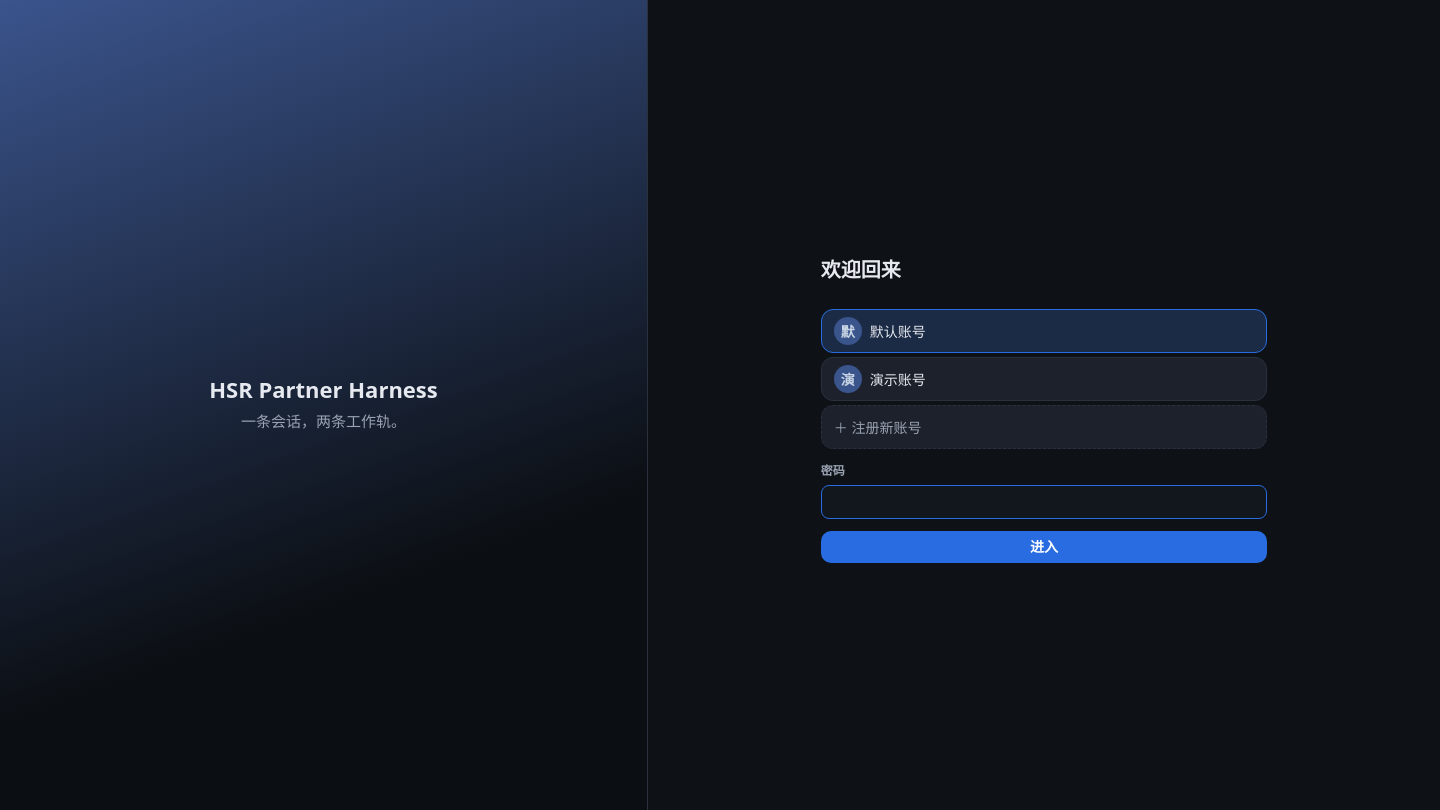
Scenario: AppShell 账号门、首次引导与设置中心 › 账号门：后端拒绝登录时就地显示错误，切到注册表单后清掉
Click the radio button labelled "演 演示账号" at (898, 380), box [821,357,1267,401]
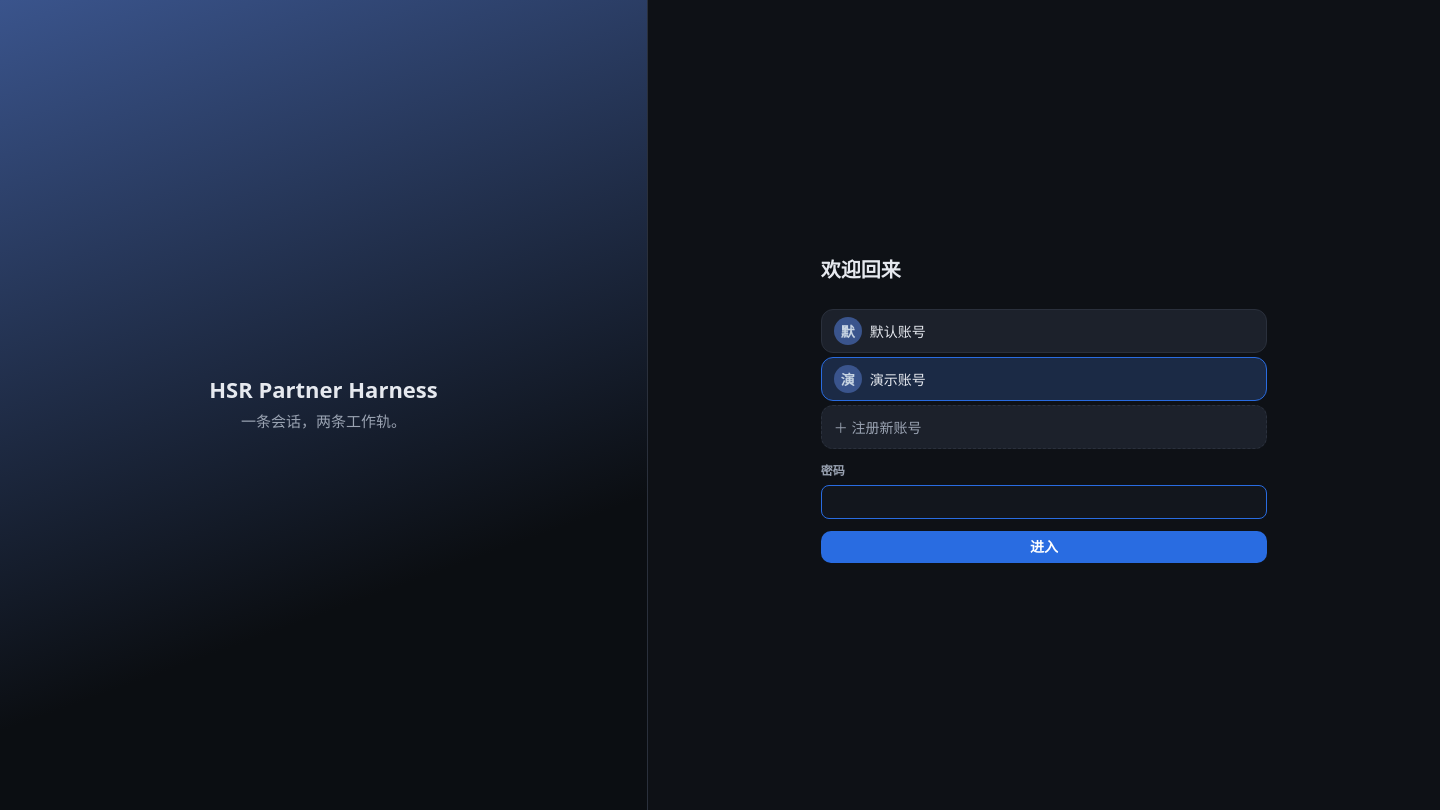
Type "wrong-pass" into the password field labelled "密码" at (1044, 502), box [821,485,1267,519]
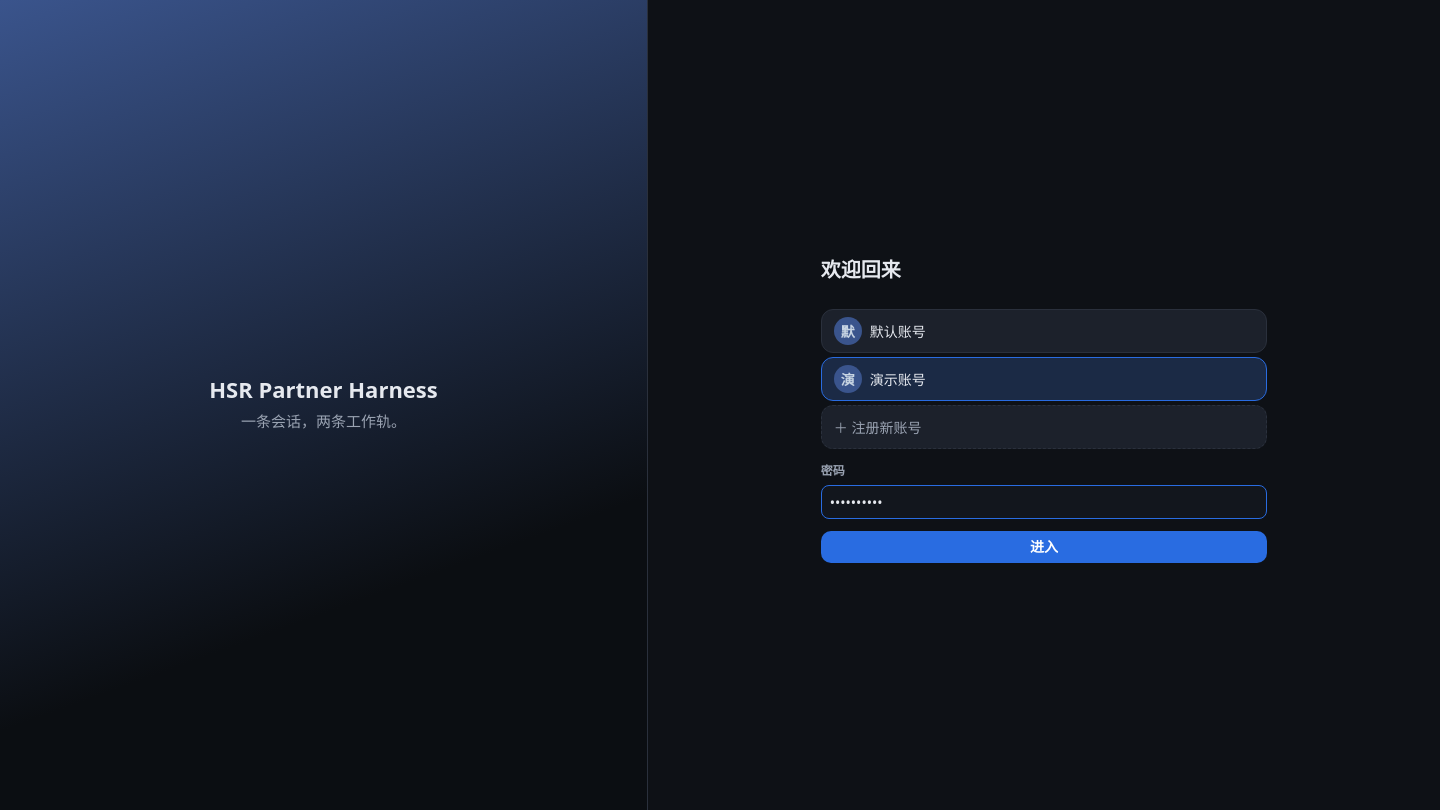
Click the button "进入" at (1044, 547), box [821,531,1267,563]
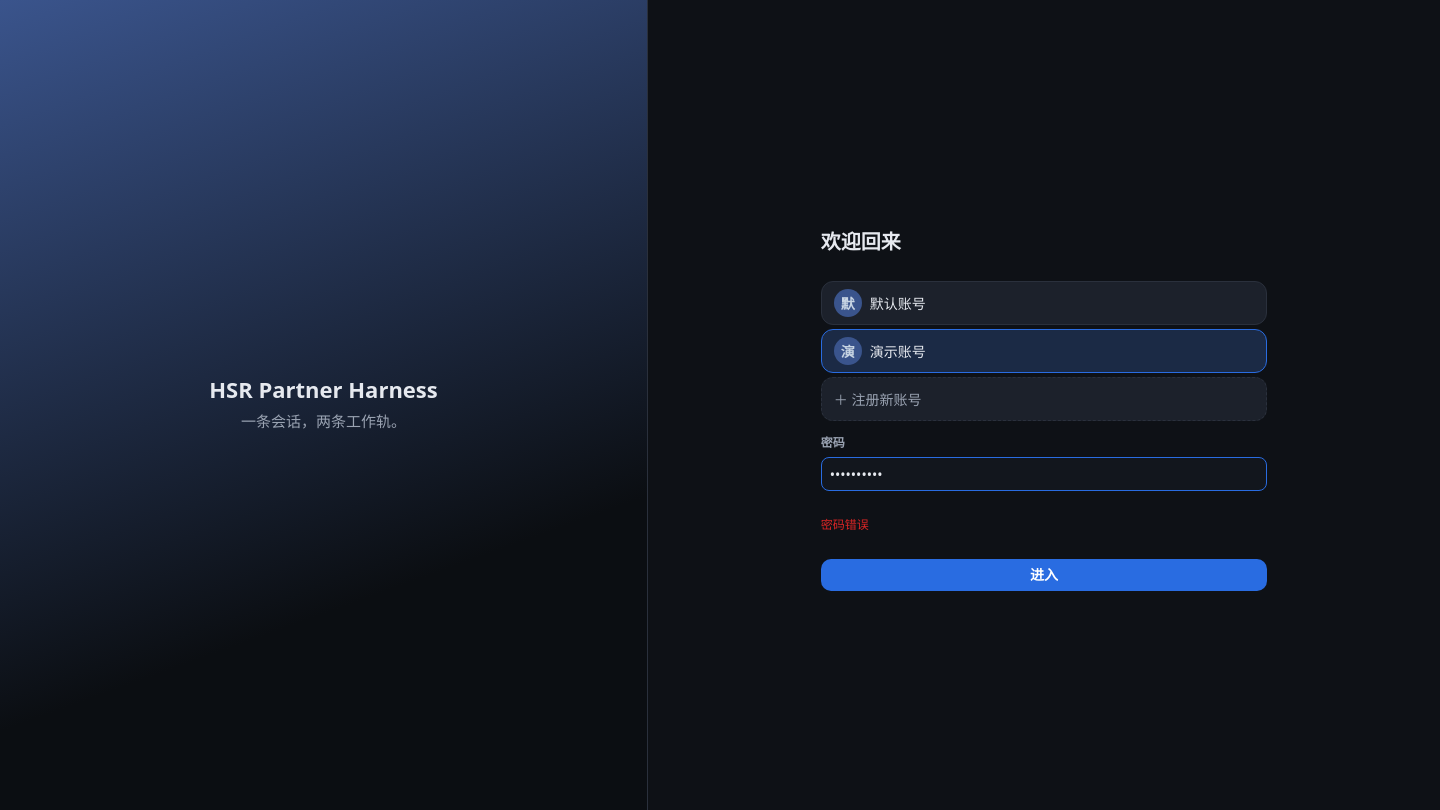
Expected: the message reads "密码错误", [821,516,869,533]
Click the button "＋ 注册新账号" at (878, 400), box [821,377,1267,421]
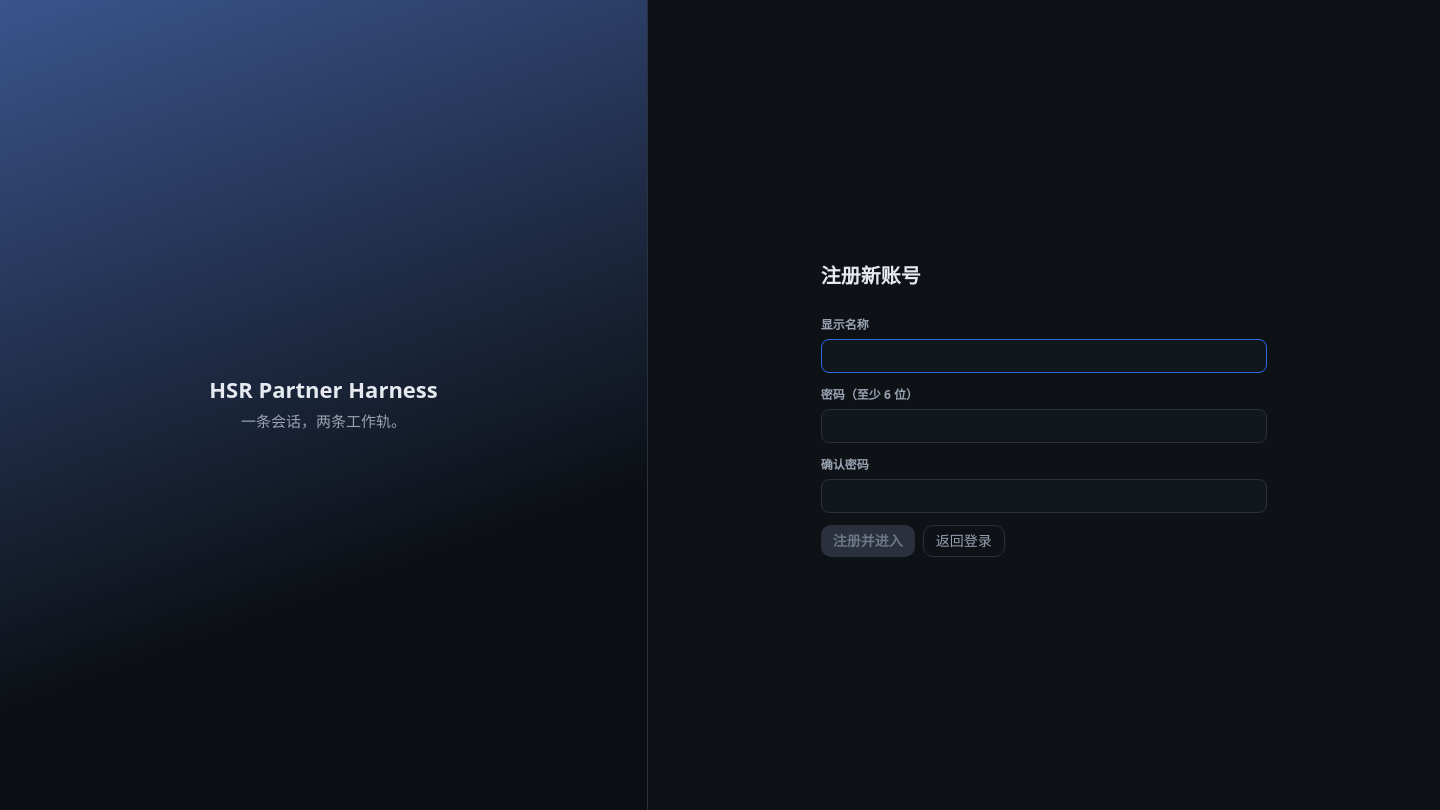
Expected: the heading "注册新账号" is shown, [821,262,921,289]
Expected: the text "密码错误" is gone
